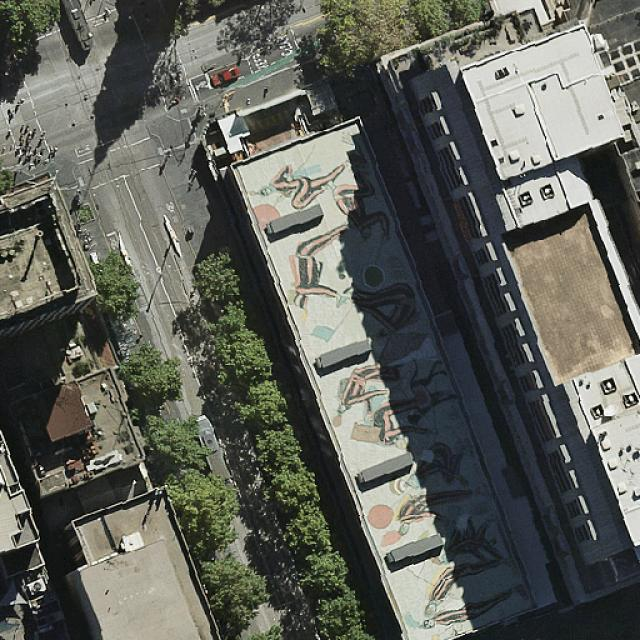Bike-Symbols: (194, 80, 209, 91), (165, 202, 177, 214)
